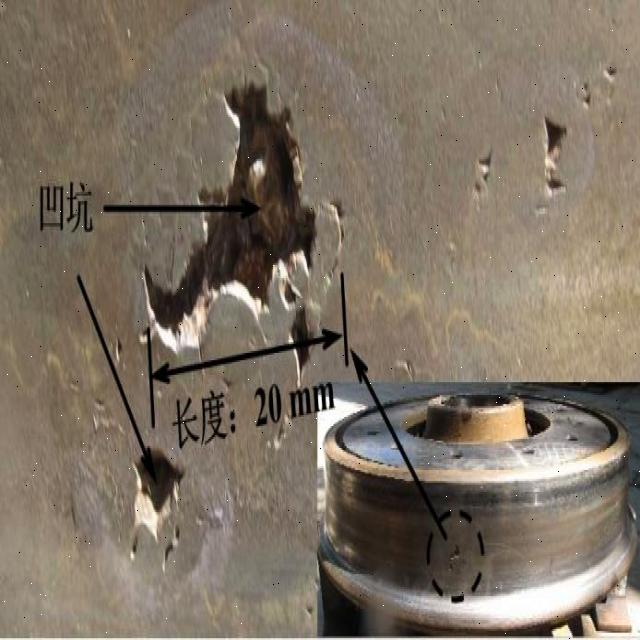geshang: (132, 72, 320, 352), (446, 539, 468, 583)
